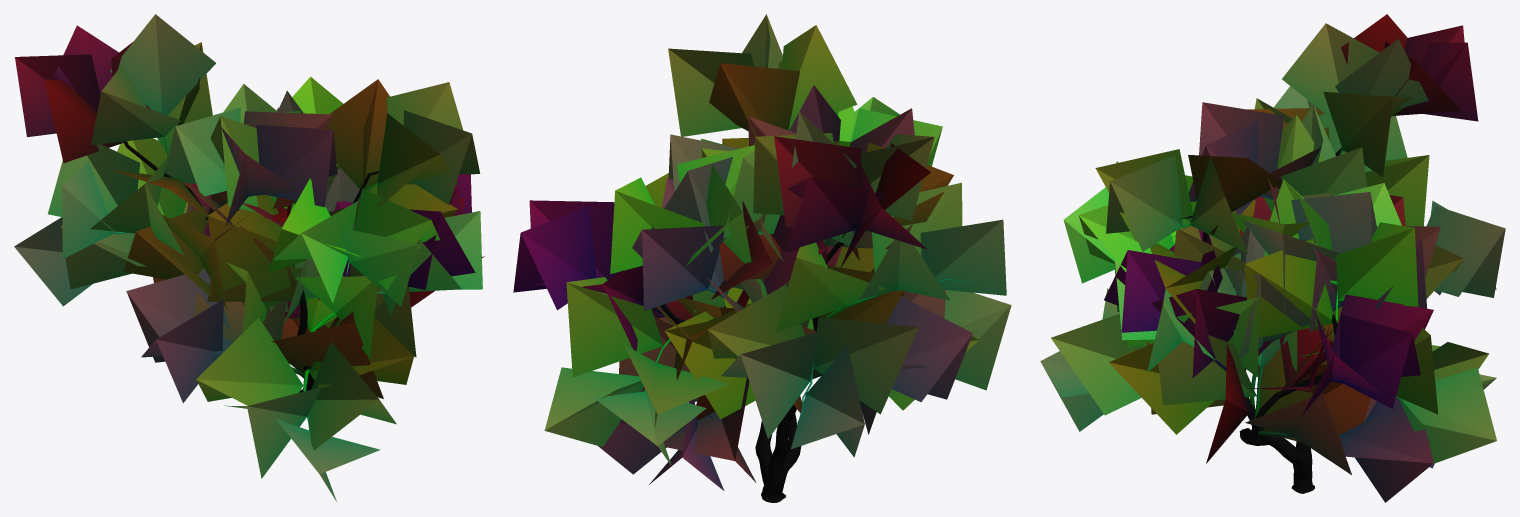
File: TreeIt.fbx
3 renders of one model, left to right at view 1: azimuth 30°, elevation 25°; view 2: azimuth 150°, elevation 25°; view 3: azimuth 270°, elevation 25°, orthographic. The views are drawn at different scales.
Visible parts, largest first — view 1: TreeItMesh; view 2: TreeItMesh; view 3: TreeItMesh.
Boxes of the visible parts, x1=… form: TreeItMesh: x1=14, y1=14, x2=484, y2=501; TreeItMesh: x1=513, y1=14, x2=1011, y2=502; TreeItMesh: x1=1040, y1=14, x2=1505, y2=502.
Size of the model in its own units: 441 by 408 by 415.
